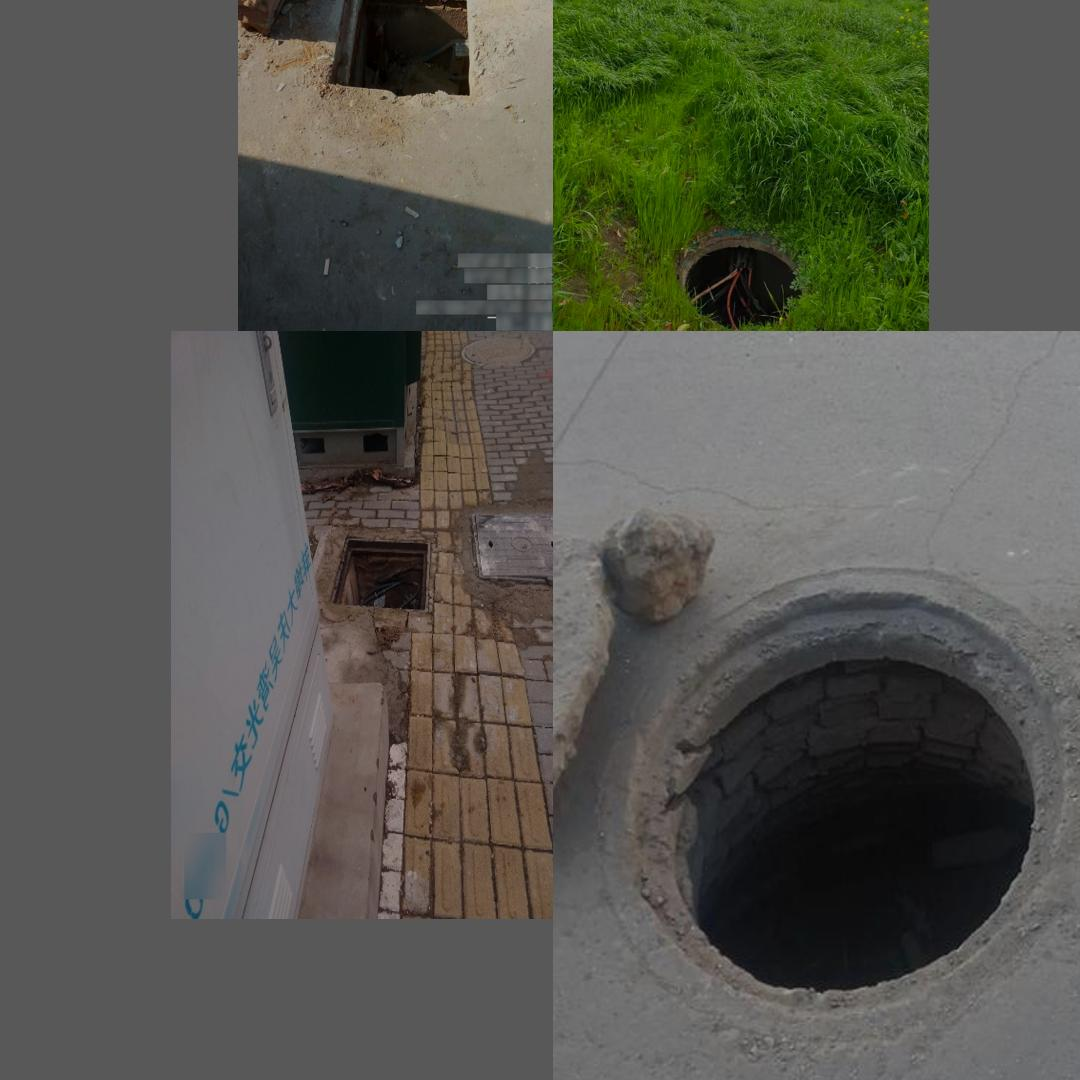lose: (614, 550, 1077, 1024), (311, 0, 501, 116), (671, 234, 805, 331), (319, 525, 436, 604)
